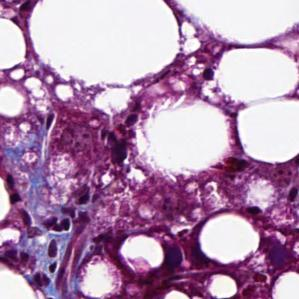inflammation: (96, 99, 148, 167), (226, 154, 253, 189), (42, 211, 74, 236), (41, 238, 60, 277), (4, 172, 23, 206), (201, 65, 220, 92), (43, 106, 57, 138), (244, 202, 267, 220), (286, 185, 299, 207)
